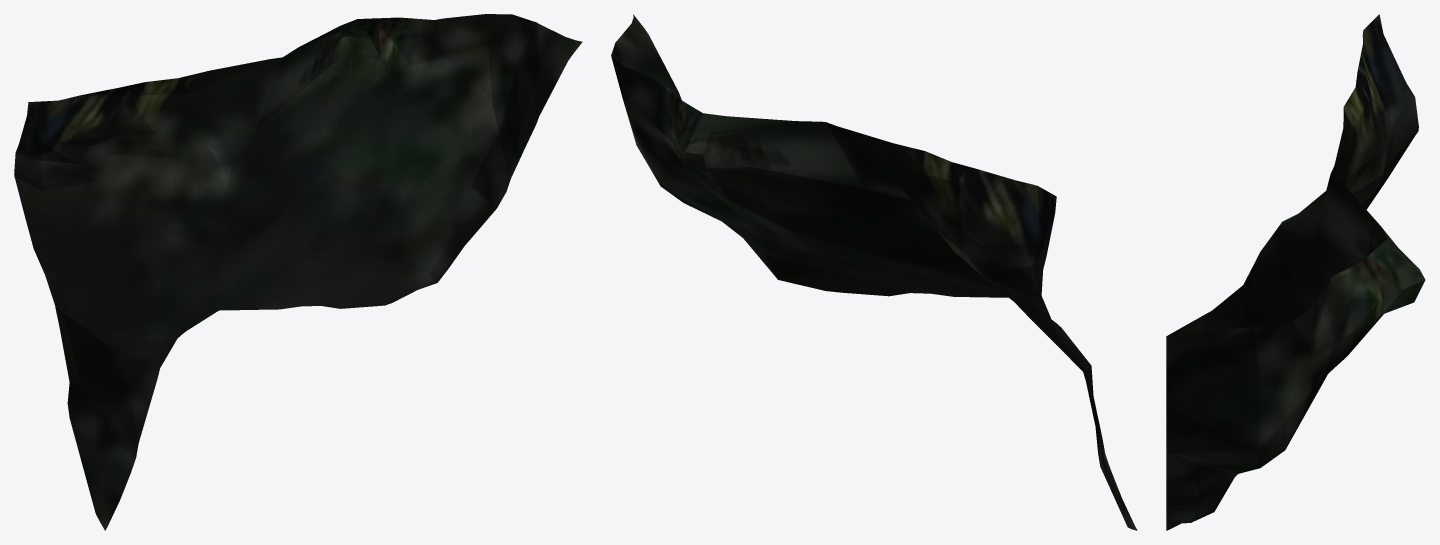
3 views of the same model, side by side, from view 1: azimuth 30°, elevation 25°; view 2: azimuth 150°, elevation 25°; view 3: azimuth 270°, elevation 25° (orthographic). The views are drawn at different scales.
Size of the model in its own units: 0.6819 by 0.5084 by 0.2309.
Materials: 1 (1 with a texture image).
